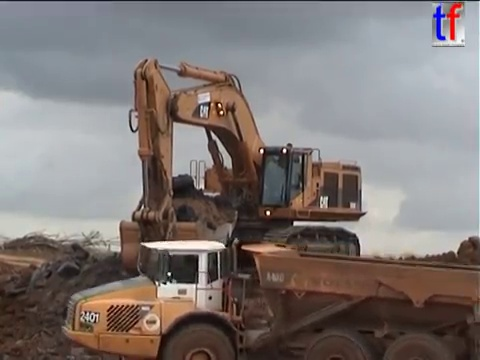excavator: (116, 54, 371, 281), (58, 234, 480, 360)
